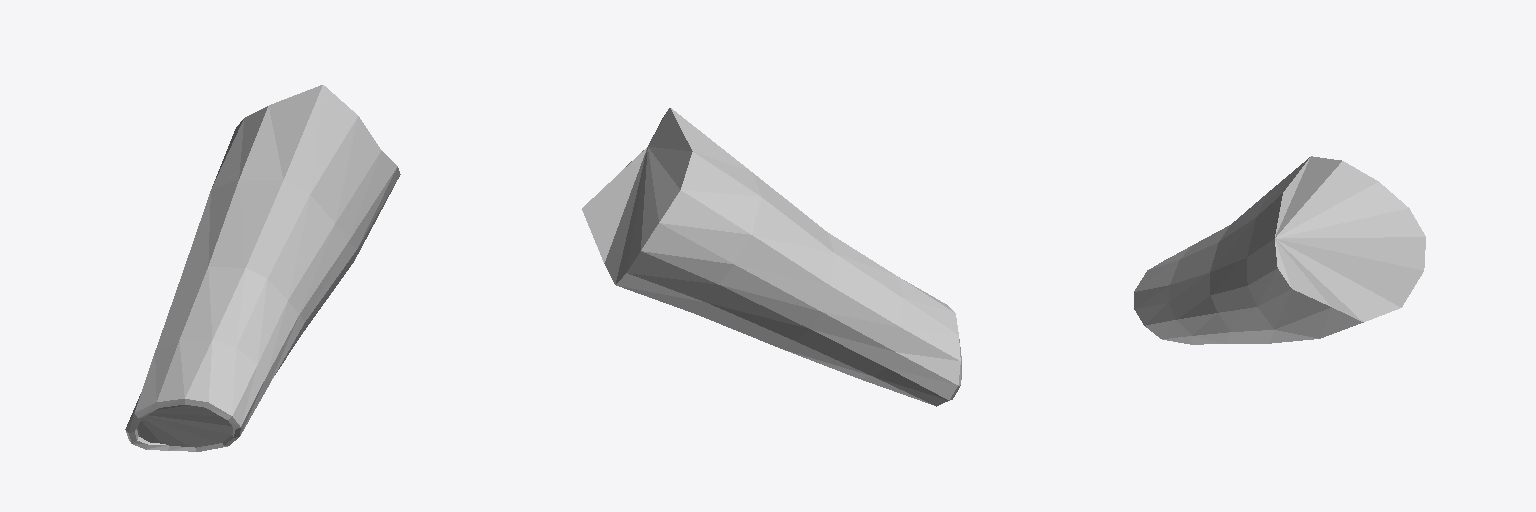
Rendered from avant_bras_droit.obj.
3 renders of one model, left to right at view 1: azimuth 30°, elevation 25°; view 2: azimuth 150°, elevation 25°; view 3: azimuth 270°, elevation 25°, orthographic.
Visible parts, largest first — view 1: Soi_SimpleArmor.002_Plane.023; view 2: Soi_SimpleArmor.002_Plane.023; view 3: Soi_SimpleArmor.002_Plane.023.
Part boxes in pixels (bbox=[...]): Soi_SimpleArmor.002_Plane.023: bbox=[125, 85, 400, 451]; Soi_SimpleArmor.002_Plane.023: bbox=[582, 108, 961, 406]; Soi_SimpleArmor.002_Plane.023: bbox=[1134, 156, 1425, 344].
Bounding box in the file's own units: 0.1998 × 0.1666 × 0.1576.